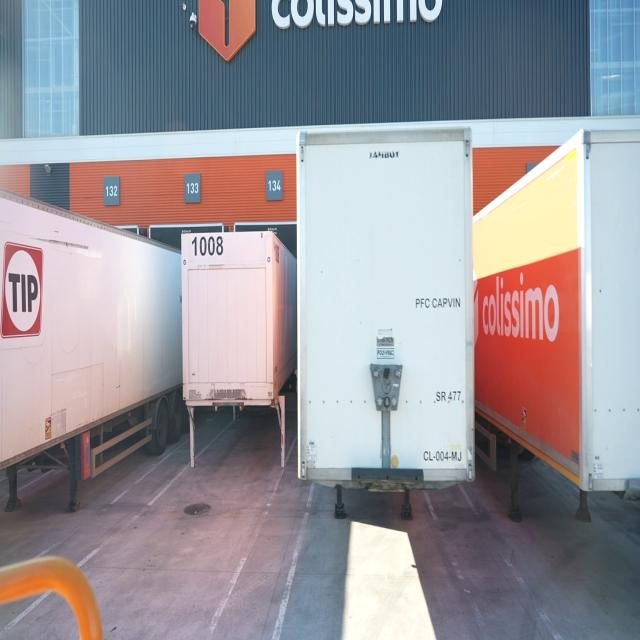Code: (189, 232, 228, 262)
